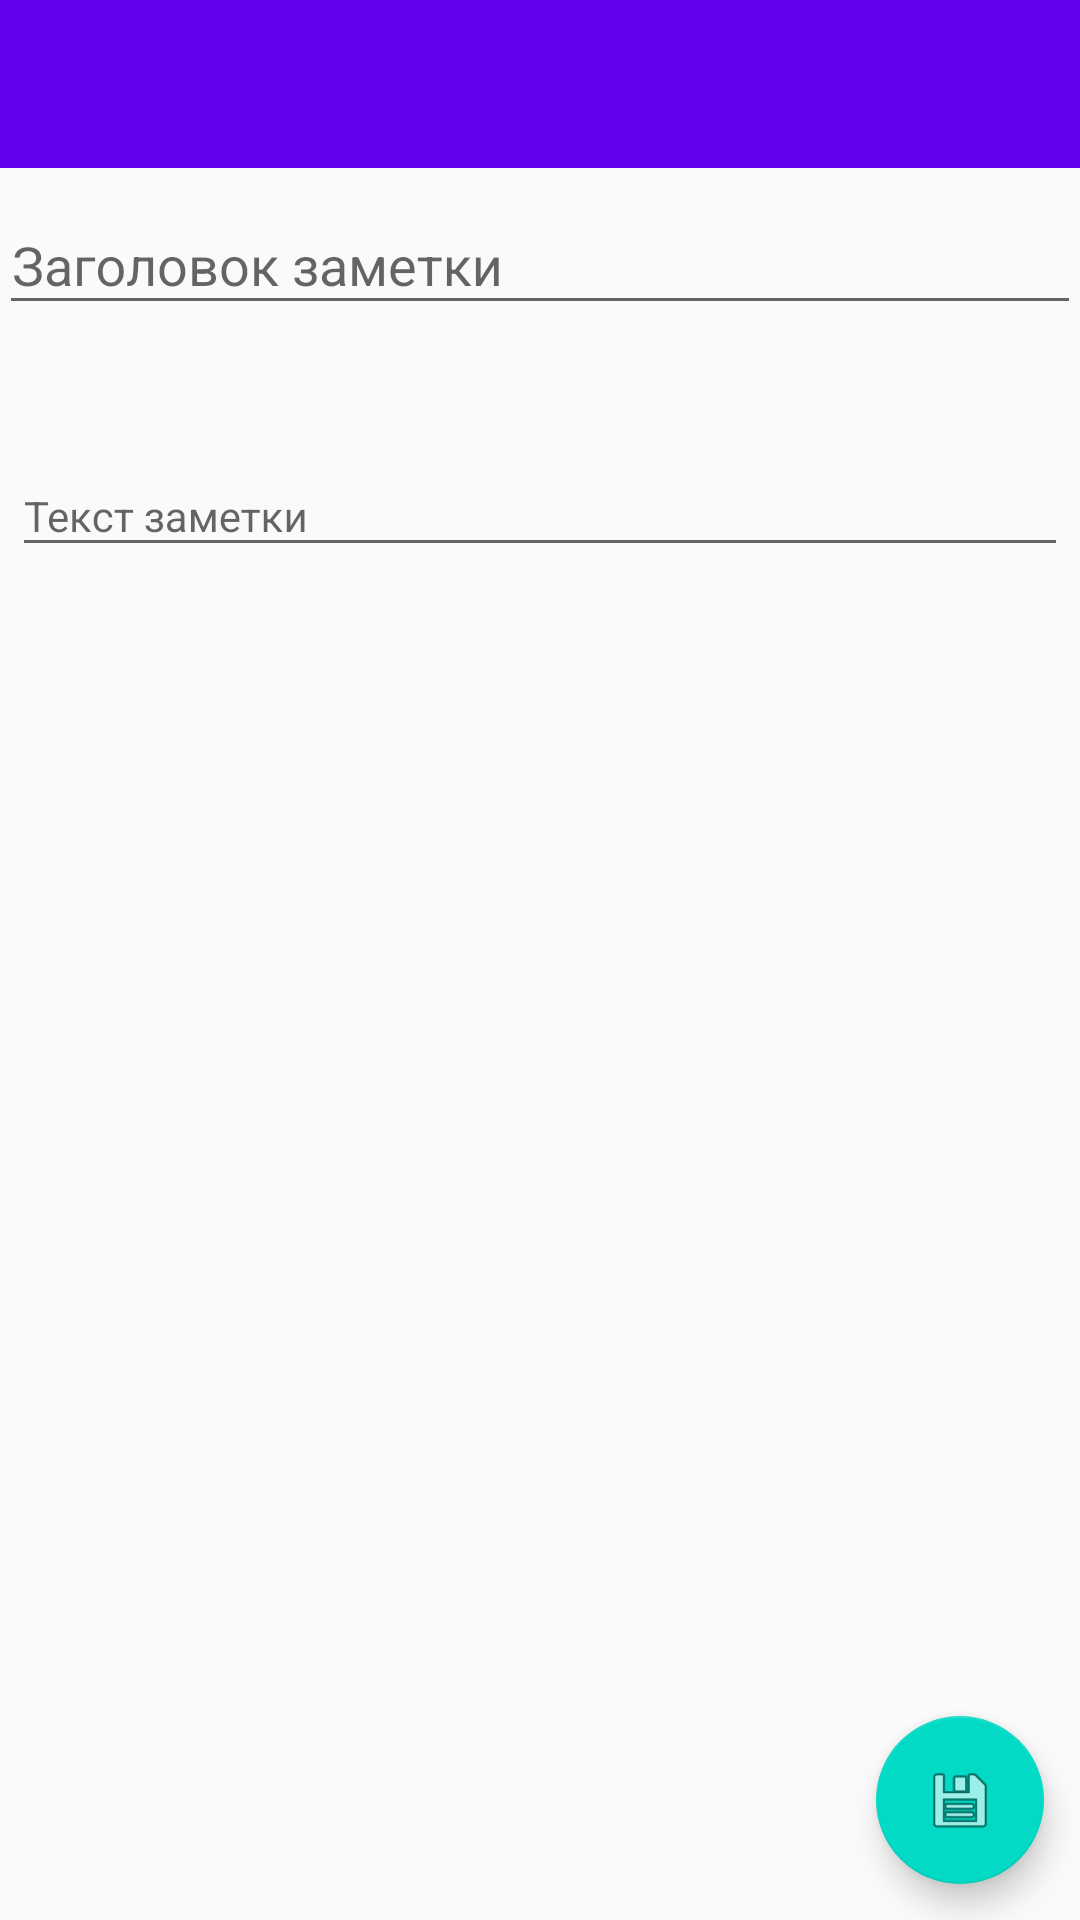

Named icons in this screenshot (1080 x 1920) and their centers, [x,y]:
save: [960,1800]
